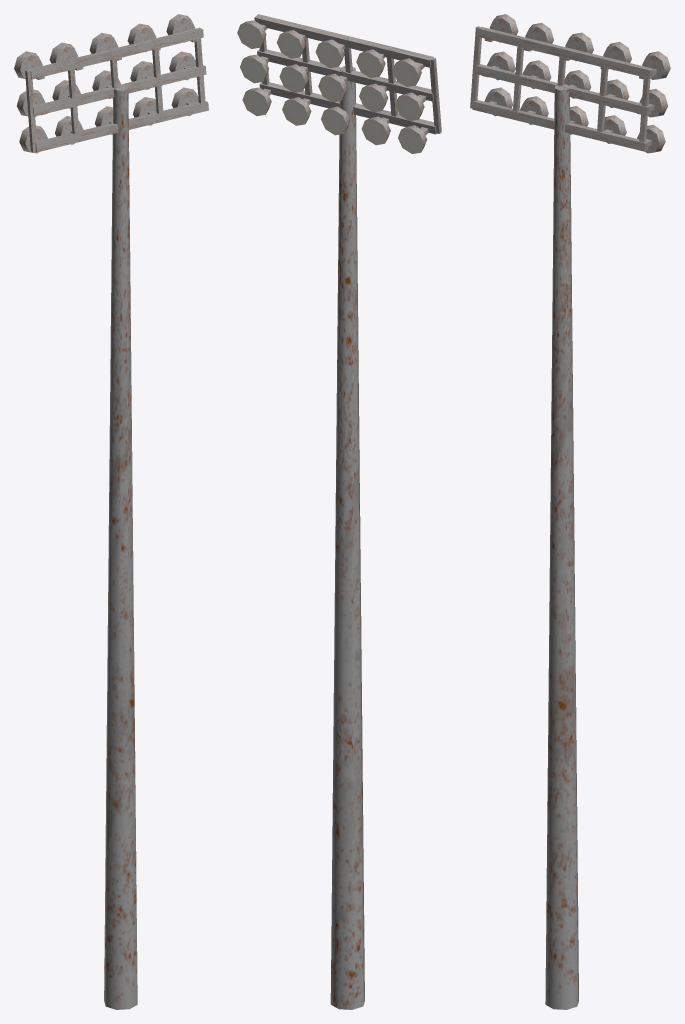
The model's file is aws_Light_01_visual.DAE.
3 views of the same model, side by side, from view 1: azimuth 30°, elevation 25°; view 2: azimuth 150°, elevation 25°; view 3: azimuth 330°, elevation 25° (orthographic). The views are drawn at different scales.
Visible parts, largest first — view 1: aws_Light_01_visual; view 2: aws_Light_01_visual; view 3: aws_Light_01_visual.
Part boxes in pixels (x1,y1,x2,y2): aws_Light_01_visual: [14, 14, 208, 1009]; aws_Light_01_visual: [237, 14, 441, 1009]; aws_Light_01_visual: [470, 14, 670, 1009].
Size of the model in its own units: 295 by 80.28 by 1499.
Materials: 1 (1 with a texture image).
